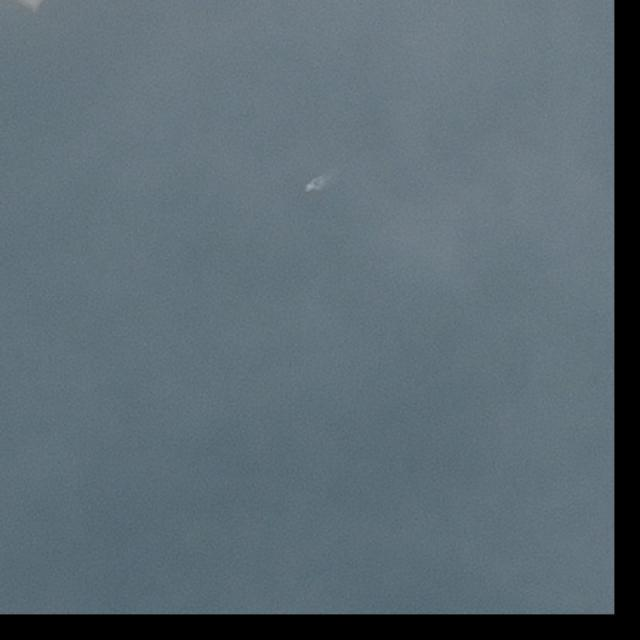ship: (304, 182, 318, 192)
